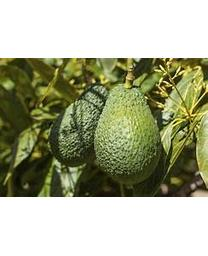avocado: (94, 83, 162, 183), (48, 85, 110, 168)
